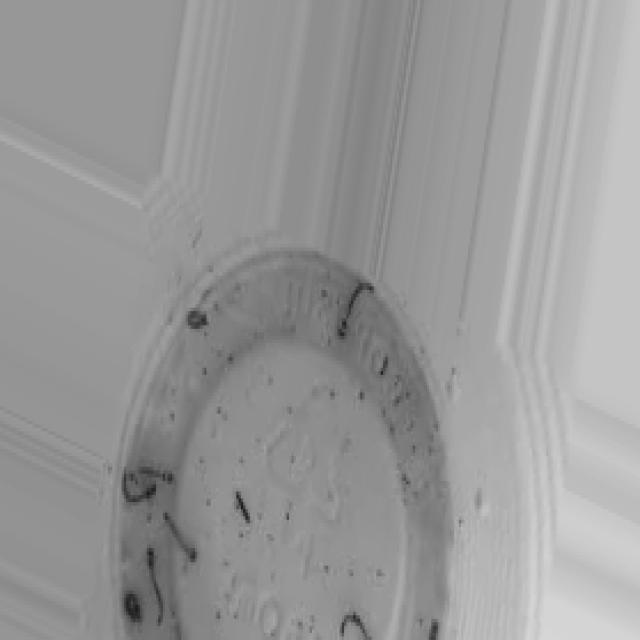larvas: (163, 504, 204, 573), (337, 281, 375, 342), (147, 542, 165, 624), (121, 474, 162, 506), (139, 461, 177, 487), (338, 613, 369, 640), (122, 592, 141, 622), (371, 348, 389, 378), (237, 490, 250, 523), (187, 310, 208, 328), (426, 611, 438, 640)
